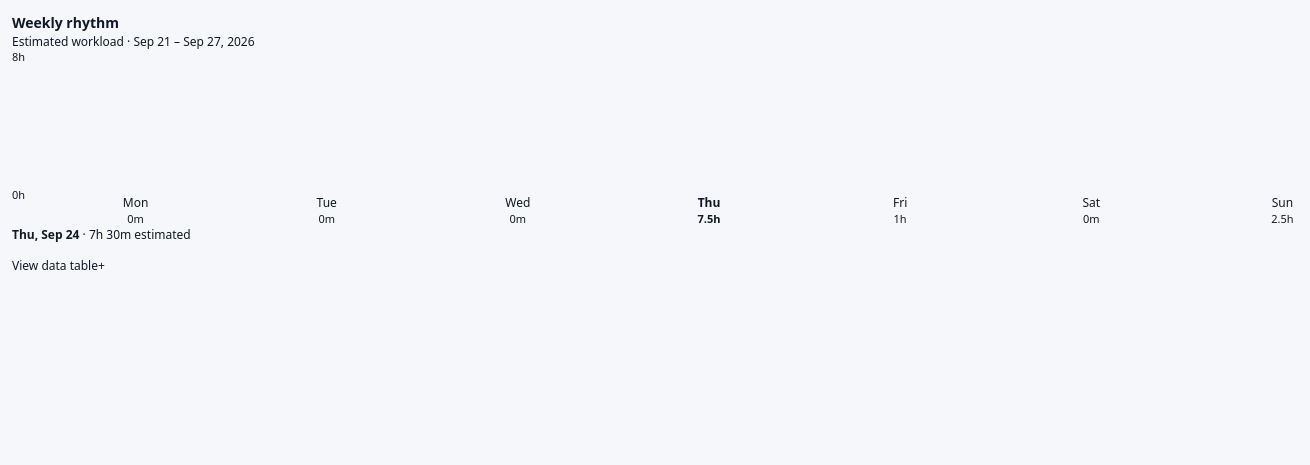
Scenario: PrototypeBarChart interaction › provides exact dates and values in a native table
Click the heading "View data table".
click(58, 266)  # box [12,244,105,288]
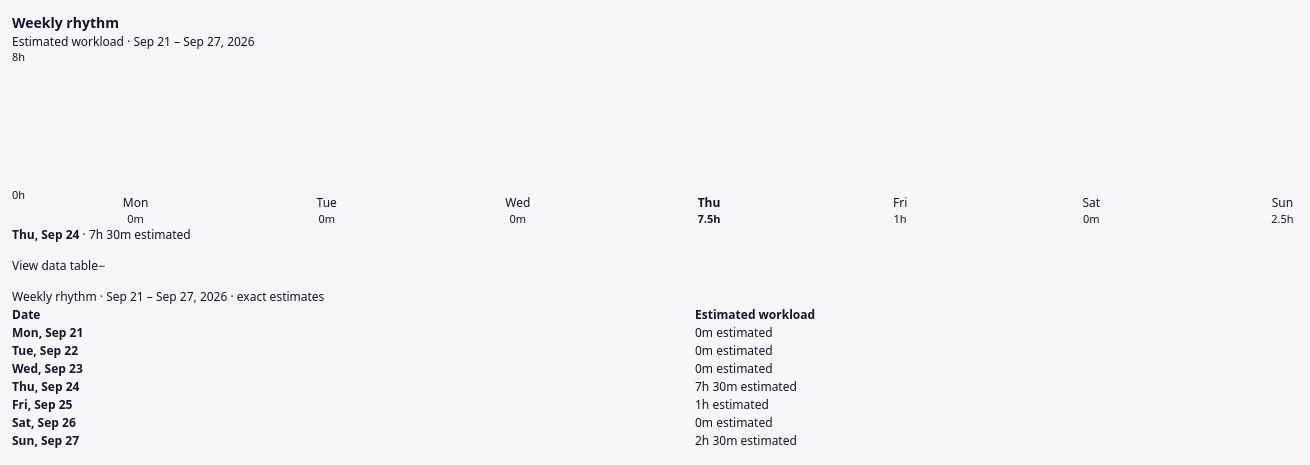
Expected: the element with test id "chart-data-table" shows "7h 30m estimated", [695,378,797,395]
